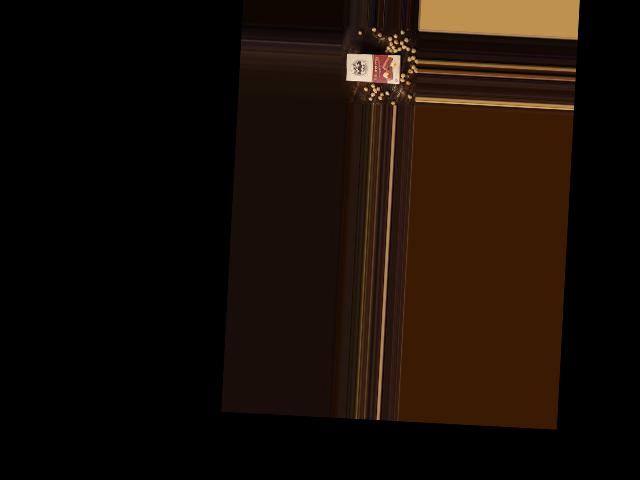chocolate: (344, 49, 402, 85)
